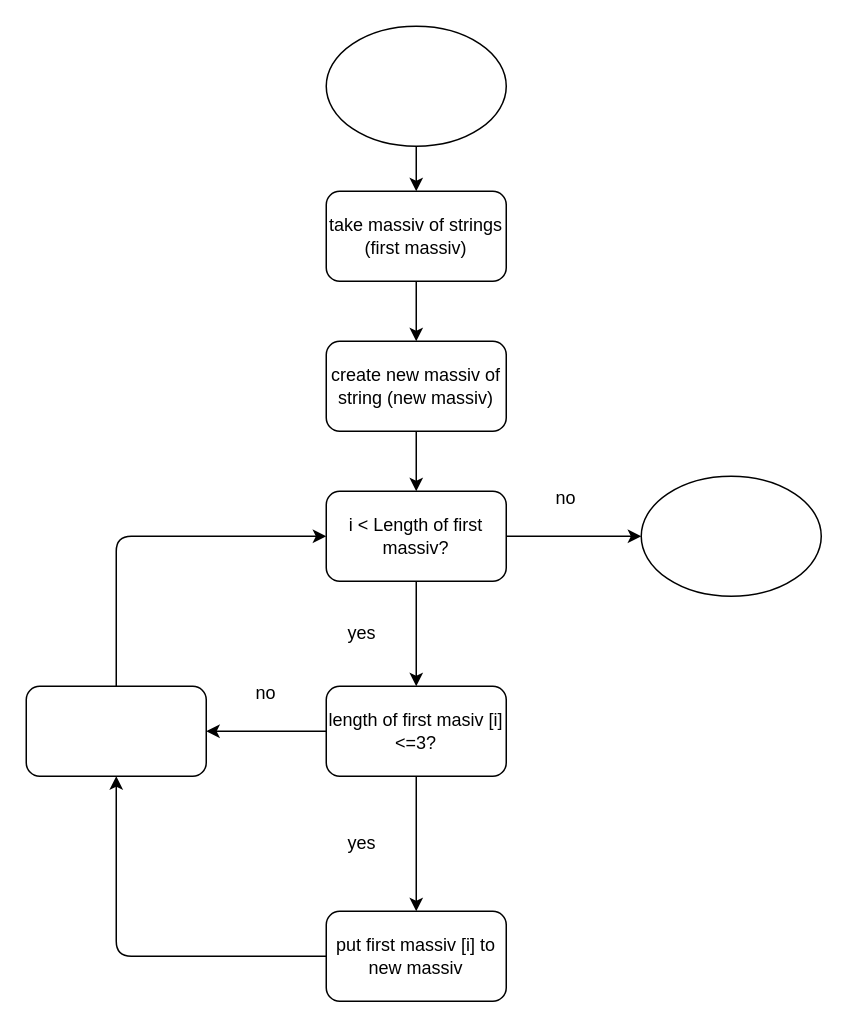
Image size: 848x1028. Some labels were removed from this diagram. The shapes that lost their labels are listed below. From the top down, each one's centre as x and y in pixels, then its label:
At (x=415, y=85): "start".
At (x=730, y=535): "Finish".
At (x=115, y=730): "i++".
